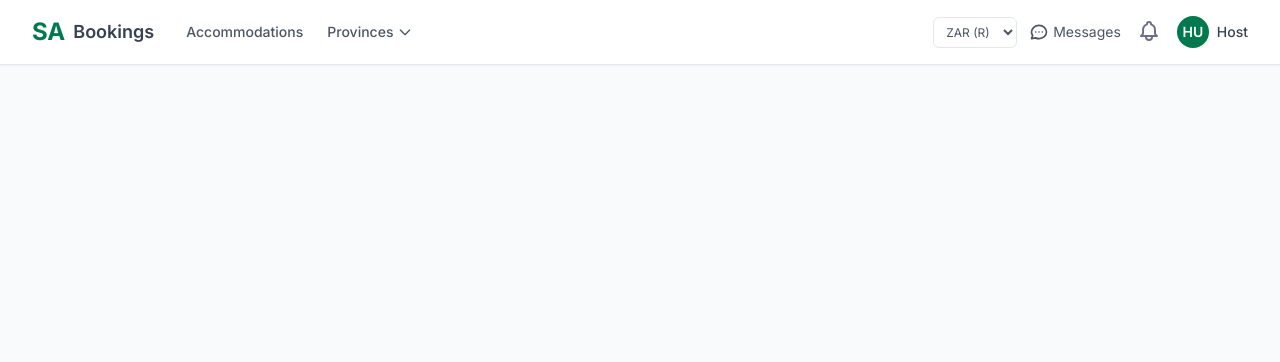
Header › should show My Listings link for host user
Click the button "HU Host": (1212, 32) [1177,16,1248,48]
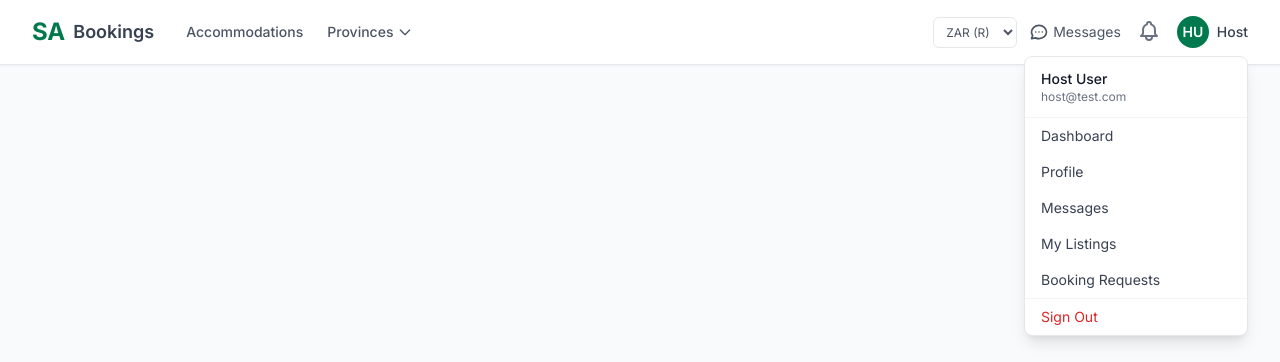
expect the link "My Listings" is shown: met, box [1041,235,1116,252]
